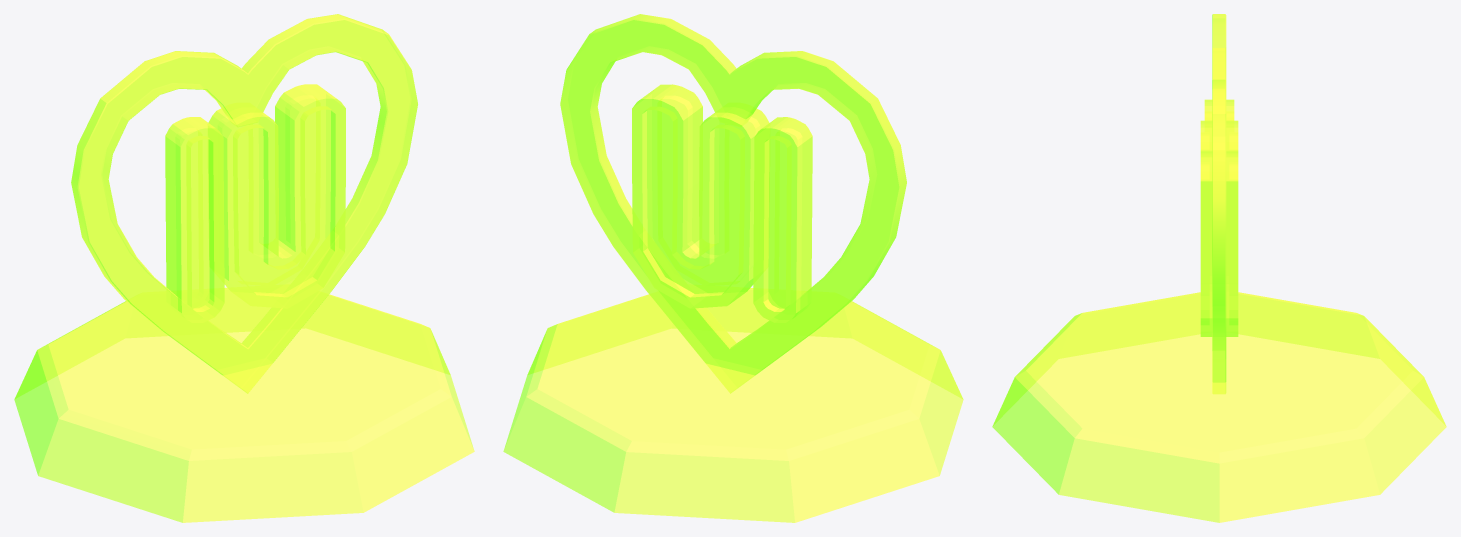
File: IU_LICHT.glb
3 views of the same model, side by side, from view 1: azimuth 30°, elevation 25°; view 2: azimuth 150°, elevation 25°; view 3: azimuth 270°, elevation 25° (orthographic). The views are drawn at different scales.
Bounding box in the file's own units: 0.1148 × 0.1032 × 0.1148.
Materials: 1 (1 with a texture image).
